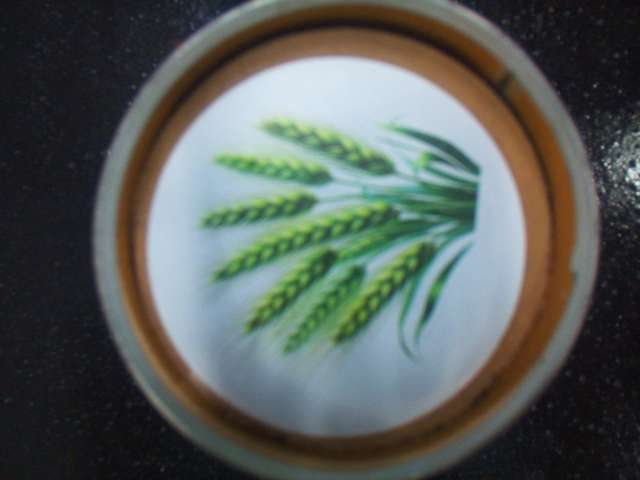wheat_barrel: (190, 97, 491, 375)
